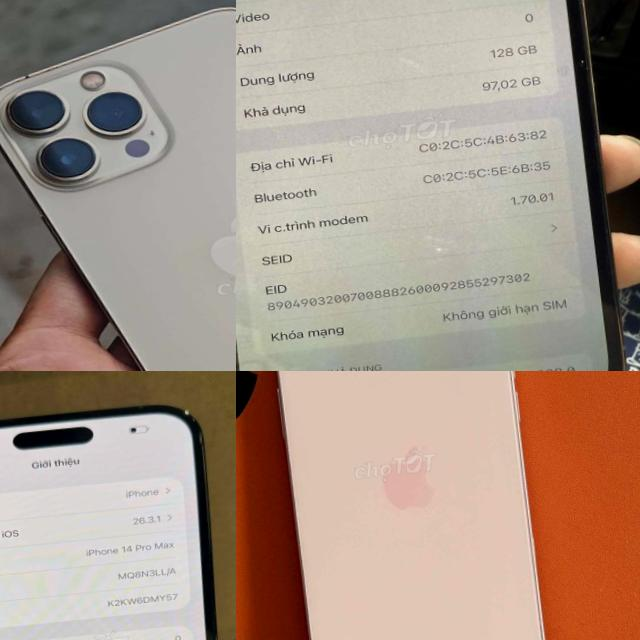gen_12_13: (236, 0, 637, 371), (0, 0, 236, 371)
gen_14: (0, 381, 236, 640)
gen_15: (256, 371, 566, 640)
